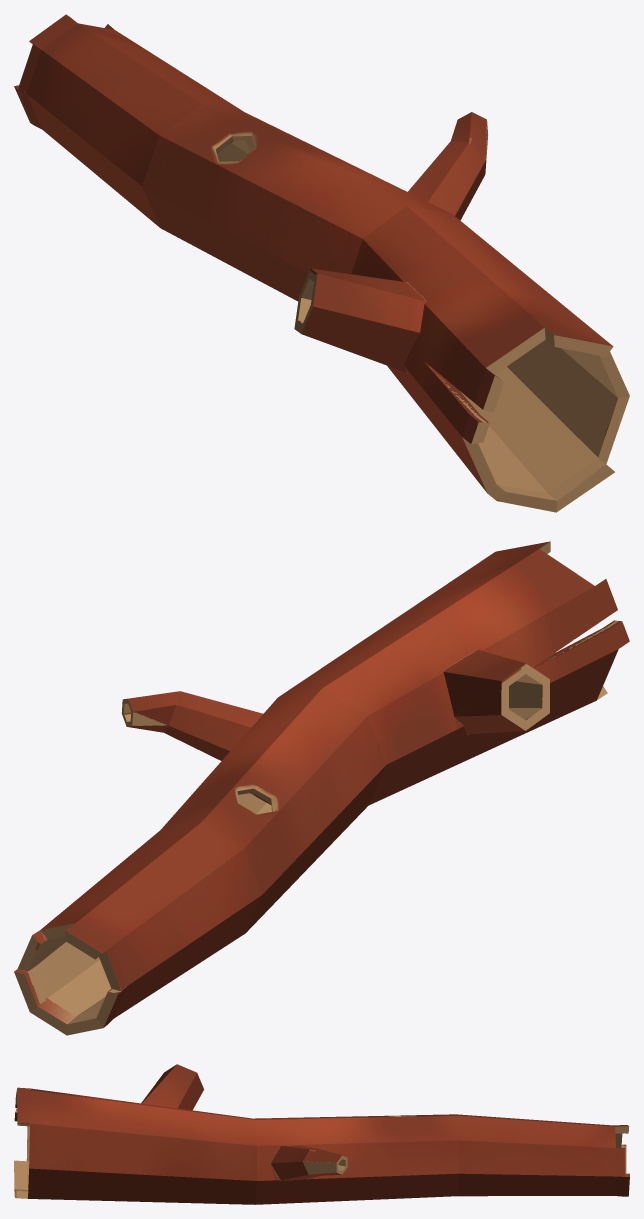
The model's file is Fallen Log .fbx.
3 views of the same model, one above another, from view 1: azimuth 30°, elevation 25°; view 2: azimuth 150°, elevation 25°; view 3: azimuth 270°, elevation 25° (orthographic). The views are drawn at different scales.
Visible parts, largest first — view 1: Fallen Log; view 2: Fallen Log; view 3: Fallen Log.
Boxes of the visible parts, x1,y1,x2,y2 form: Fallen Log: (14,14,629,512); Fallen Log: (14,541,629,1035); Fallen Log: (14,1064,629,1204).
Size of the model in its own units: 433 by 225 by 1178.
